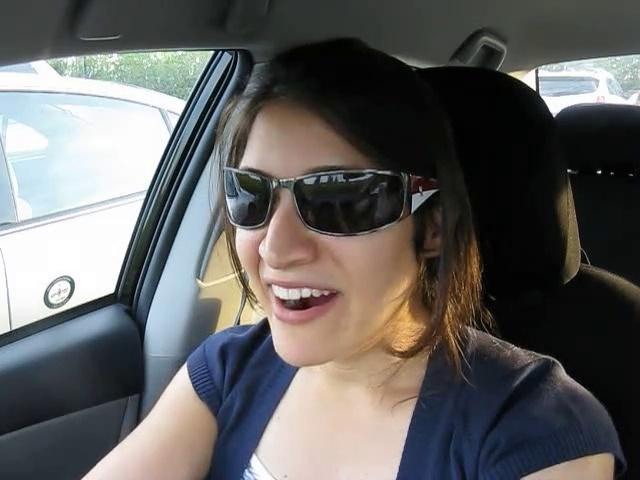yawn: (259, 271, 357, 329)
